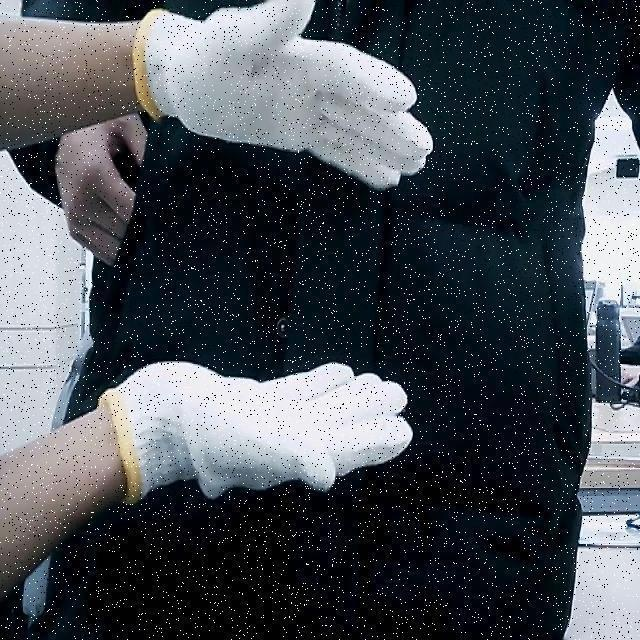Guantes: (0, 0, 438, 203)
